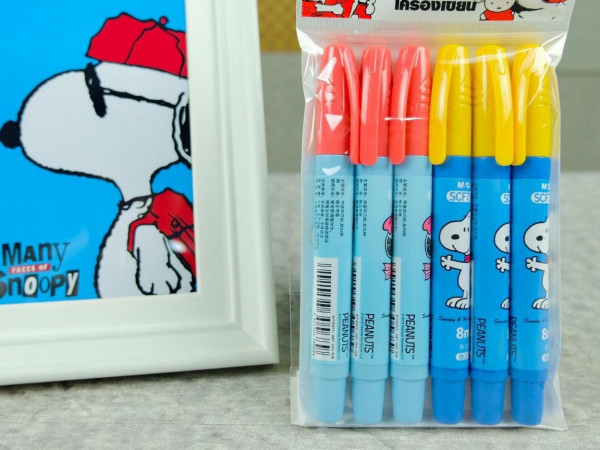Correction_fluid: (310, 38, 363, 424), (509, 45, 558, 431), (466, 40, 512, 428), (430, 43, 470, 425), (391, 44, 431, 426), (352, 45, 392, 427)
